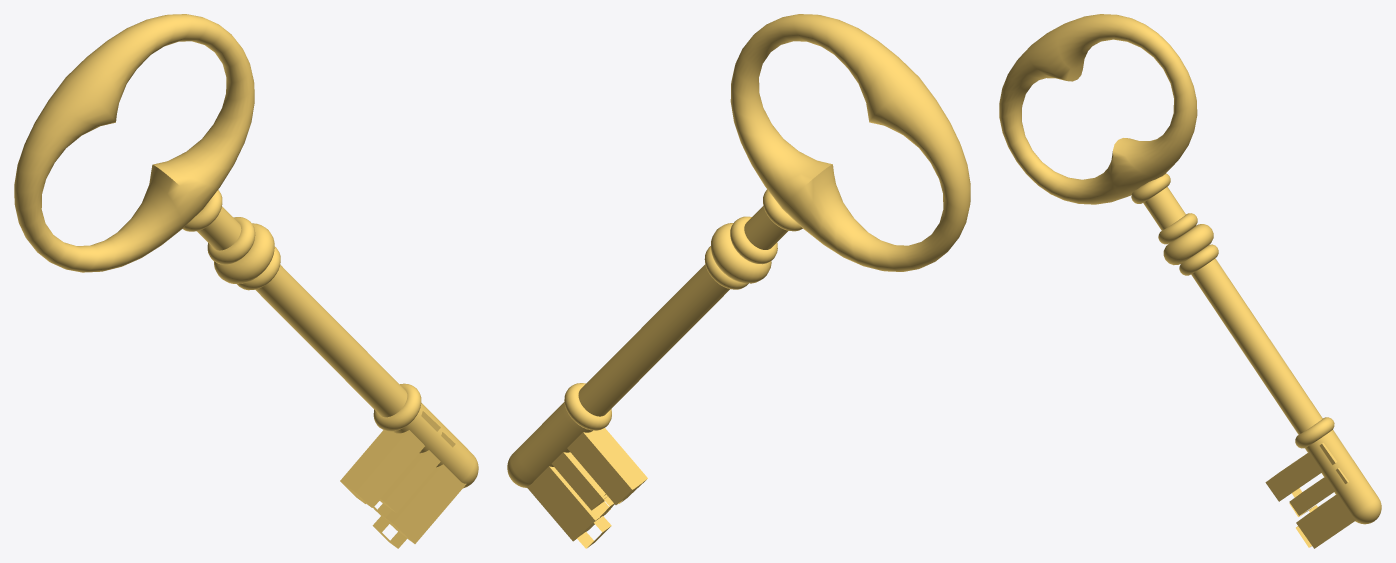
File: key.fbx
3 views of the same model, side by side, from view 1: azimuth 30°, elevation 25°; view 2: azimuth 150°, elevation 25°; view 3: azimuth 330°, elevation 25° (orthographic). The views are drawn at different scales.
Visible parts, largest first — view 1: Key; view 2: Key; view 3: Key.
Boxes of the visible parts, left/top/right/bottom form: Key: left=14, top=14, right=478, bottom=548; Key: left=507, top=14, right=970, bottom=548; Key: left=999, top=14, right=1381, bottom=548.
Size of the model in its own units: 0.4502 by 0.5477 by 0.0576.
